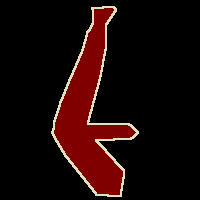tie: (52, 6, 138, 196)
